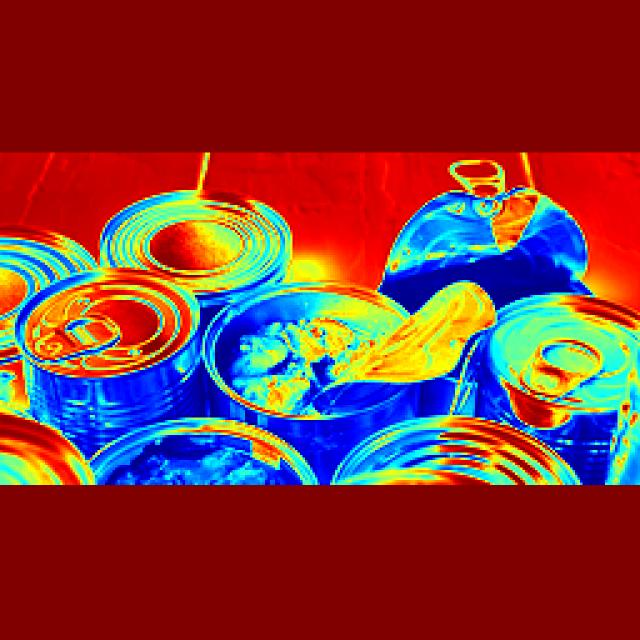Aluminium Food Cans: (203, 261, 442, 447), (97, 404, 315, 533), (492, 289, 640, 458), (120, 173, 300, 290), (23, 277, 189, 398), (399, 186, 560, 305)
